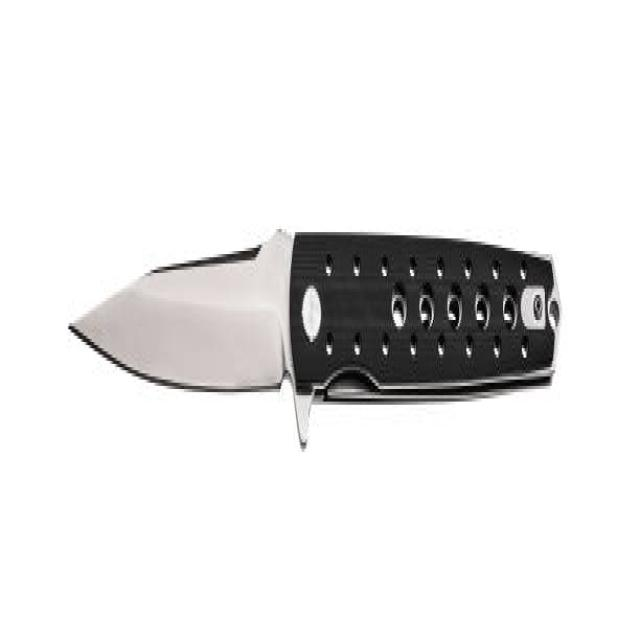knife: (66, 182, 563, 483)
